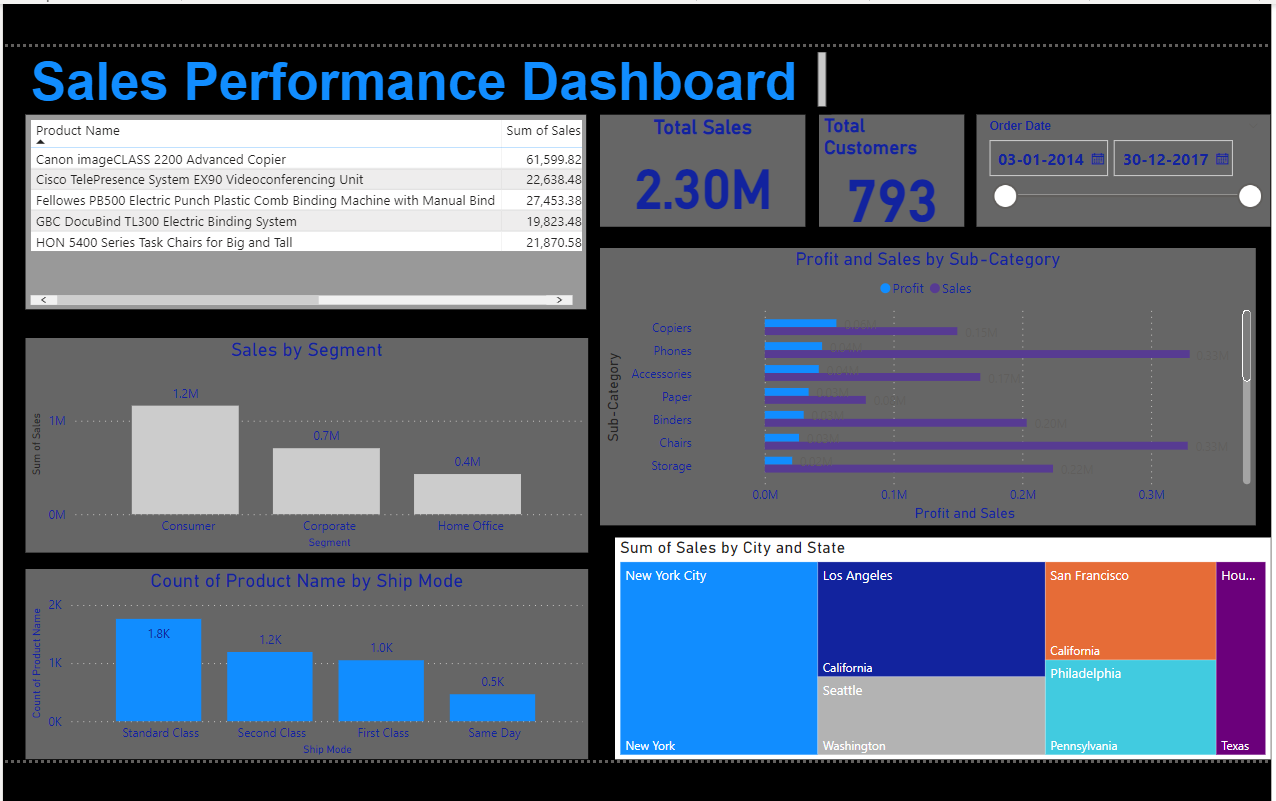

What the dashboard file says about the page in this screenshot:
{"tool":"powerbi","page":{"name":"Sales Analysis","canvas":[1280,720],"ordinal":0},"visuals":[{"type":"tableEx","fields":{"Values":["Orders.Product Name","Sum(Orders.Sales)","Orders.Product Name"]},"box":[22.7,68.1,566.3,196.8],"z":0},{"type":"card","title":"Total Sales","fields":{"Values":["Sum(Orders.Sales)"]},"box":[602.7,68.1,207.4,113.6],"z":1000},{"type":"card","title":"Total Customers ","fields":{"Values":["Count(Orders.Customer Name)"]},"box":[823.7,68.1,146.9,113.6],"z":2000},{"type":"textbox","box":[22.7,0,813.1,68.1],"z":3000},{"type":"slicer","fields":{"Values":["Orders.Order Date"]},"box":[982.7,68.1,296.8,113.6],"z":4000},{"type":"columnChart","title":"Sales by Segment","fields":{"Category":["Orders.Segment"],"Y":["Sum(Orders.Sales)"]},"box":[22.7,293.8,567.8,216.5],"z":5000},{"type":"columnChart","fields":{"Category":["Orders.Ship Mode"],"Y":["Count(Orders.Product Name)"]},"box":[22.7,526.9,567.8,192.3],"z":6000},{"type":"treemap","fields":{"Values":["Sum(Orders.Sales)"],"Group":["Orders.City"],"Details":["Orders.State"]},"box":[617.8,495.1,661.7,224.1],"z":7000},{"type":"clusteredBarChart","title":"Profit and Sales by Sub-Category","fields":{"Category":["Orders.Sub-Category"],"Y":["Sum(Orders.Profit)","Sum(Orders.Sales)"]},"box":[602.7,202.9,661.7,280.1],"z":8000}]}

Visuals, with their boxes on the page's 1280x720 design canvas (x1, y1, x2, y2). These are canvas units, not pixel positions in the 1276x801 screenshot, which may show the page scaled, cropped or inside an application window:
tableEx - Orders.Product Name x Sum(Orders.Sales): BBox(23, 68, 589, 265)
"Total Sales" card: BBox(603, 68, 810, 182)
"Total Customers " card: BBox(824, 68, 971, 182)
textbox: BBox(23, 0, 836, 68)
slicer - Orders.Order Date: BBox(983, 68, 1280, 182)
"Sales by Segment" columnChart: BBox(23, 294, 590, 510)
columnChart - Orders.Ship Mode x Count(Orders.Product Name): BBox(23, 527, 590, 719)
treemap - Sum(Orders.Sales) x Orders.City: BBox(618, 495, 1280, 719)
"Profit and Sales by Sub-Category" clusteredBarChart: BBox(603, 203, 1264, 483)
